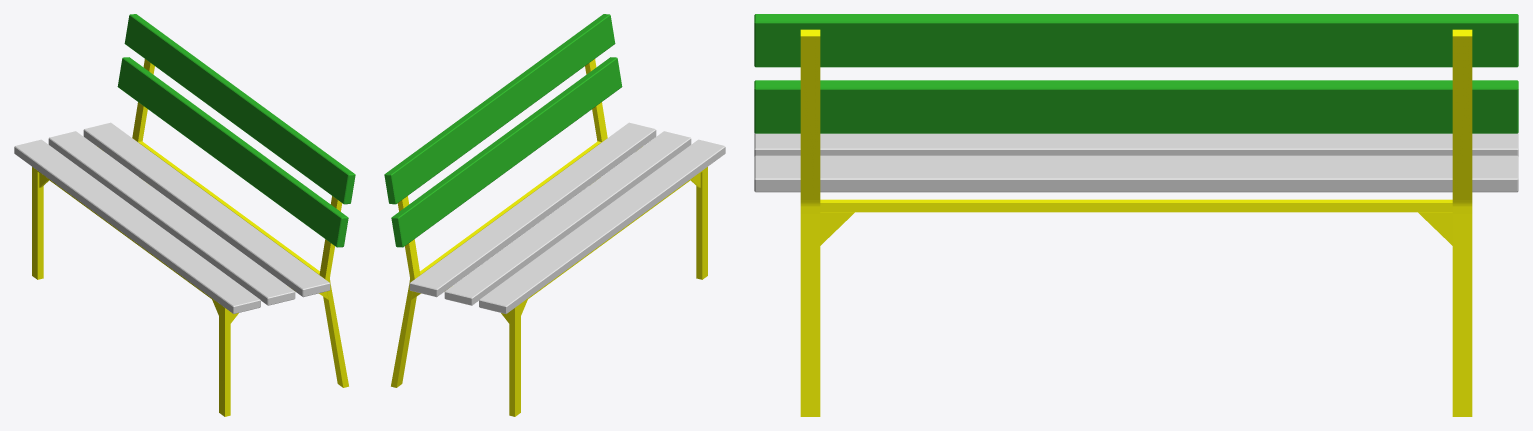
The picture shows the model from 3 angles, left to right: view 1: azimuth 30°, elevation 25°; view 2: azimuth 150°, elevation 25°; view 3: azimuth 270°, elevation 25°; orthographic projection. The views are drawn at different scales.
Parts seen in each view (by area): view 1: B-04; view 2: B-04; view 3: B-04.
Boxes of the visible parts, box(x1,y1,x2,y2) form: B-04: box(14, 14, 355, 416); B-04: box(384, 14, 725, 416); B-04: box(754, 14, 1518, 416).
Bounding box in the file's own units: 49.75 × 82.83 × 146.
